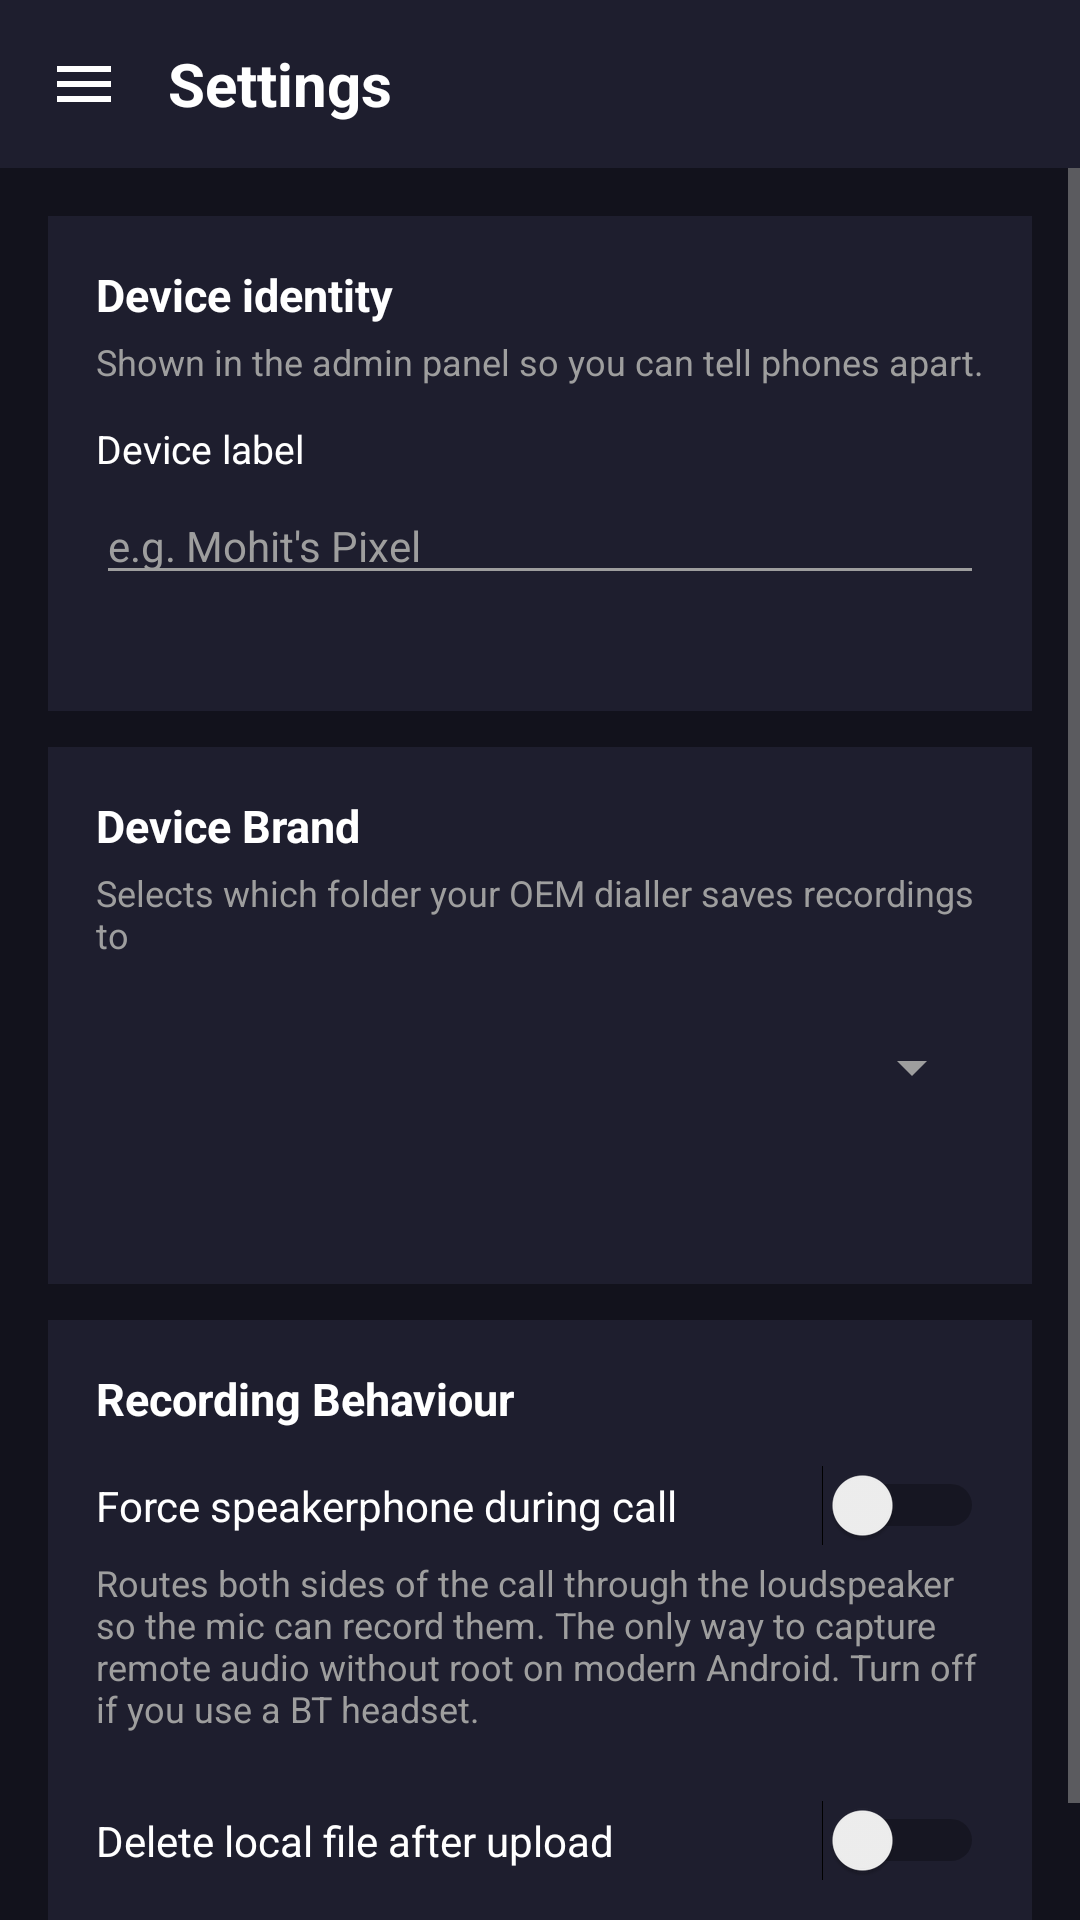

Icons on this 1080 × 1920 Android screen, each with its box as bbox=[x1, y1, x2, y2]:
Open menu: bbox=[57, 66, 111, 102]
